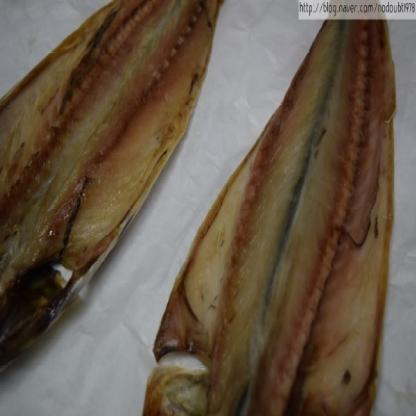Peixe: (143, 0, 412, 416), (0, 0, 241, 358)
